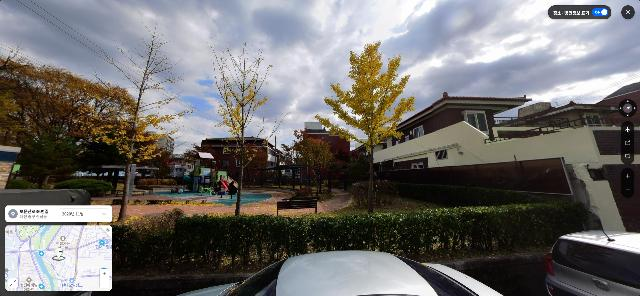ginkgo: (92, 16, 199, 221), (314, 39, 416, 213), (209, 39, 292, 215)
other: (0, 44, 160, 173), (289, 128, 335, 198)
